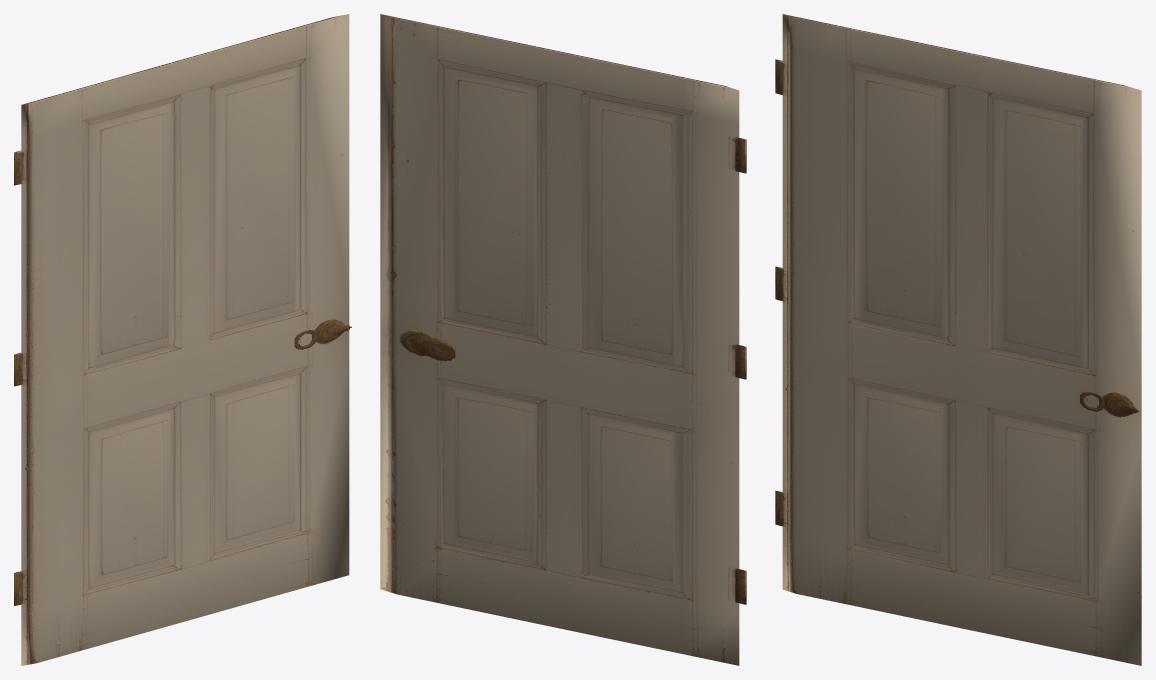
The model's file is architecture-door-panelled.glb.
3 renders of one model, left to right at view 1: azimuth 30°, elevation 25°; view 2: azimuth 150°, elevation 25°; view 3: azimuth 330°, elevation 25°, orthographic. The views are drawn at different scales.
Visible parts, largest first — view 1: tripo_node_6bce4837-c844-4e3e-be05-5464d25733f5; view 2: tripo_node_6bce4837-c844-4e3e-be05-5464d25733f5; view 3: tripo_node_6bce4837-c844-4e3e-be05-5464d25733f5.
Boxes of the visible parts, x1,y1,x2,y2 form: tripo_node_6bce4837-c844-4e3e-be05-5464d25733f5: (14, 14, 351, 665); tripo_node_6bce4837-c844-4e3e-be05-5464d25733f5: (380, 14, 746, 665); tripo_node_6bce4837-c844-4e3e-be05-5464d25733f5: (775, 14, 1141, 665).
Bounding box in the file's own units: 1.55 × 2.4 × 0.12.
1 material, 1 textured.
